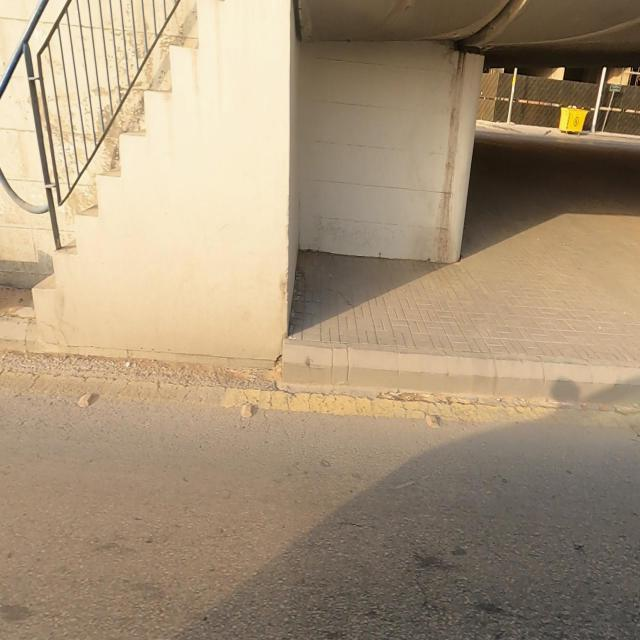debris: (534, 72, 614, 173)
